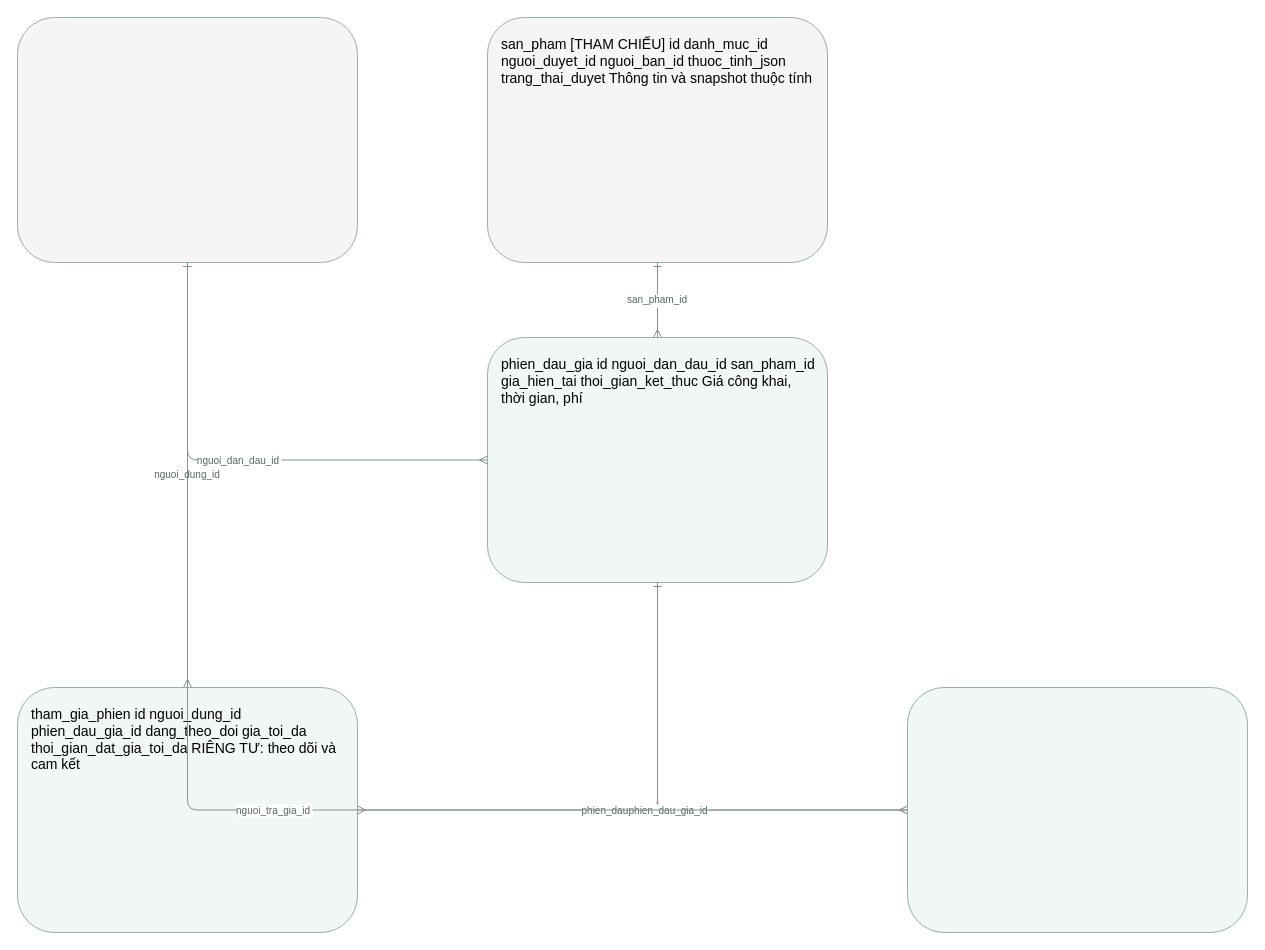
This 1265x950 diagram has some shape labels left out. Here are the shapes that lost their labels. From the top down, the centre of each, then its label:
At (x=187, y=139): "nguoi_dung [THAM CHIẾU] id Vai trò, trạng thái và tài khoản".
At (x=1077, y=809): "luot_tra_gia id phien_dau_gia_id nguoi_tra_gia_id Lịch sử giá công khai".
